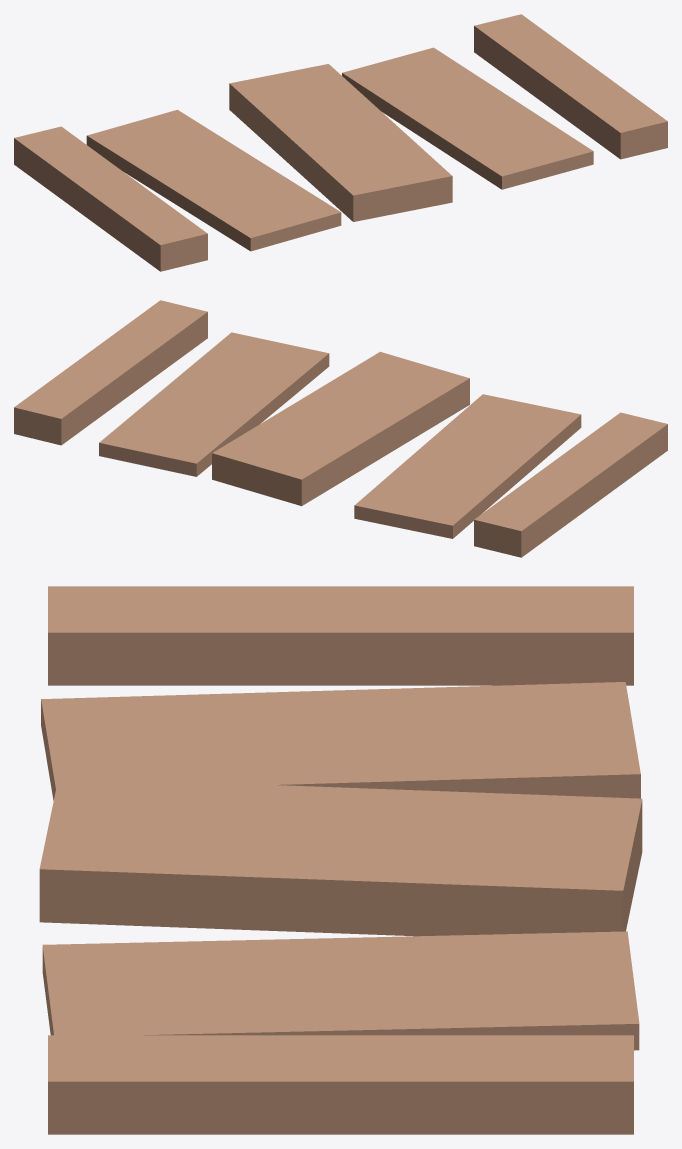
Rendered from path_wood.glb.
3 views of the same model, one above another, from view 1: azimuth 30°, elevation 25°; view 2: azimuth 150°, elevation 25°; view 3: azimuth 270°, elevation 25° (orthographic). The views are drawn at different scales.
Parts seen in each view (by area): view 1: path_wood; view 2: path_wood; view 3: path_wood.
Part boxes in pixels (x1=…): path_wood: x1=14, y1=14, x2=667, y2=271; path_wood: x1=14, y1=300, x2=667, y2=557; path_wood: x1=39, y1=586, x2=642, y2=1134.
Size of the model in its own units: 1 by 0.05 by 0.5144.
